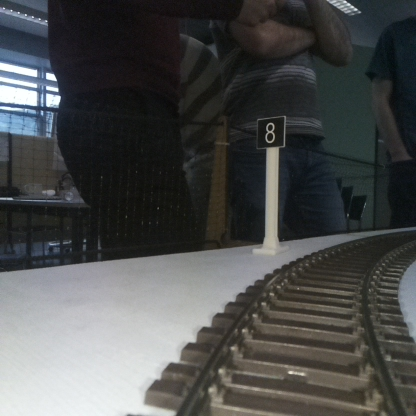black-info-8: (258, 116, 284, 253)
